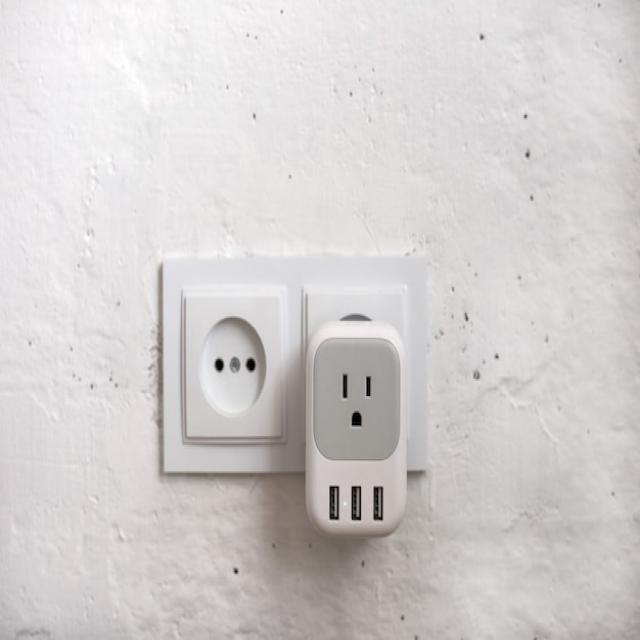typeb: (150, 243, 298, 519)
